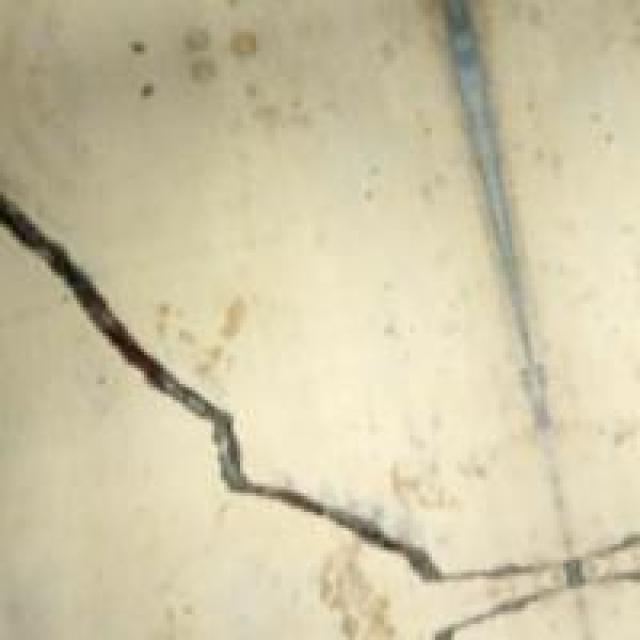crack: (3, 163, 515, 576)
